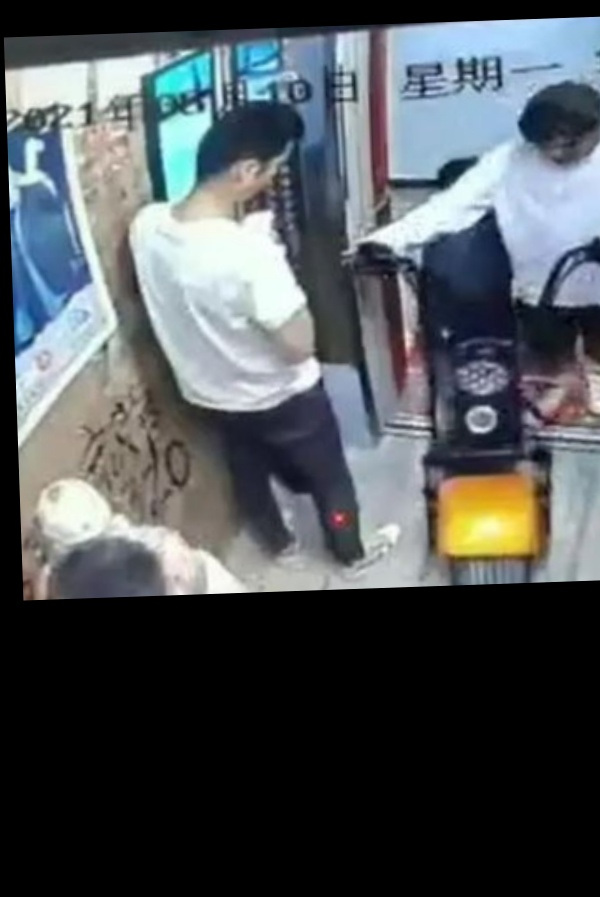ebike: (340, 240, 600, 586)
person: (128, 98, 399, 569), (368, 82, 600, 429)
